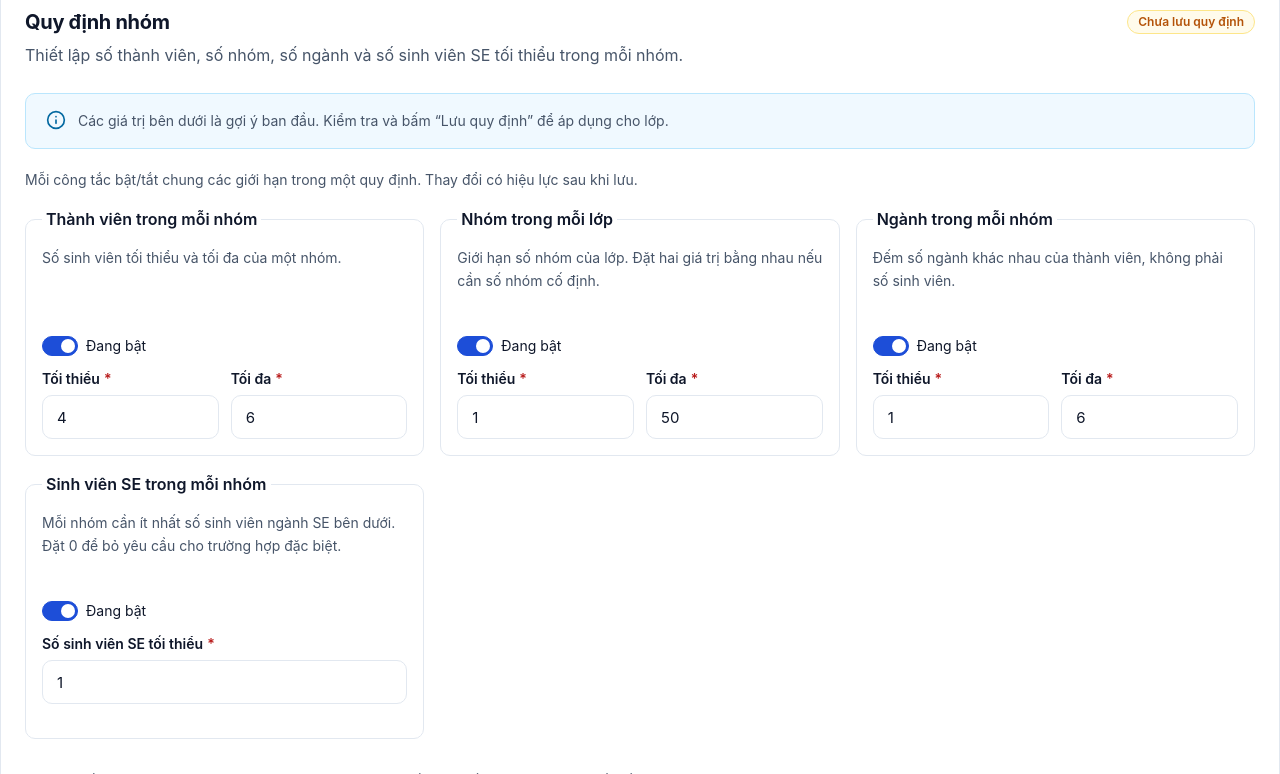
Test: Class grouping rules workflow › toggles all limits of groups together and revalidates when enabled
Replace the text in the number field labelled "Tối thiểu*" below "Nhóm trong mỗi lớp" with "60" at [546, 417], box [457,395,634,439]
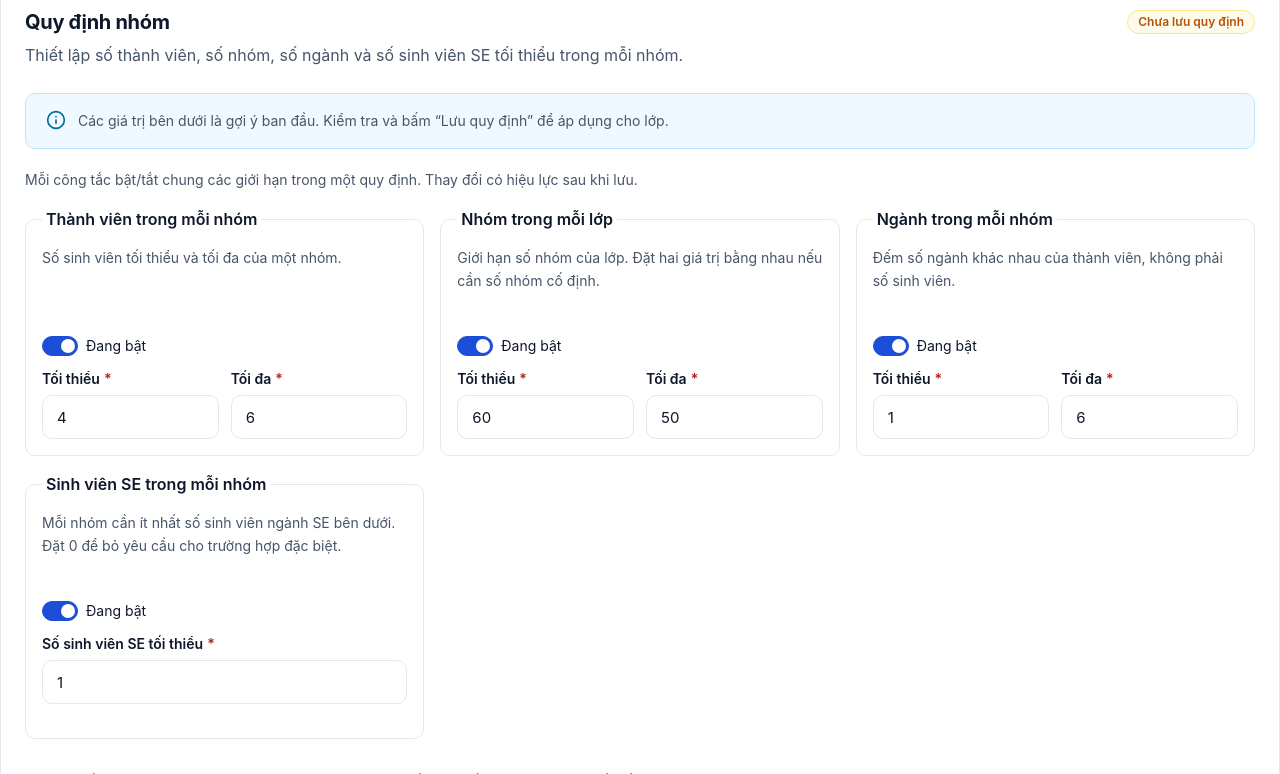
Click the switch labelled "Đang bật" below "Nhóm trong mỗi lớp" at [475, 346], box [457,336,493,356]
(page scrolled)
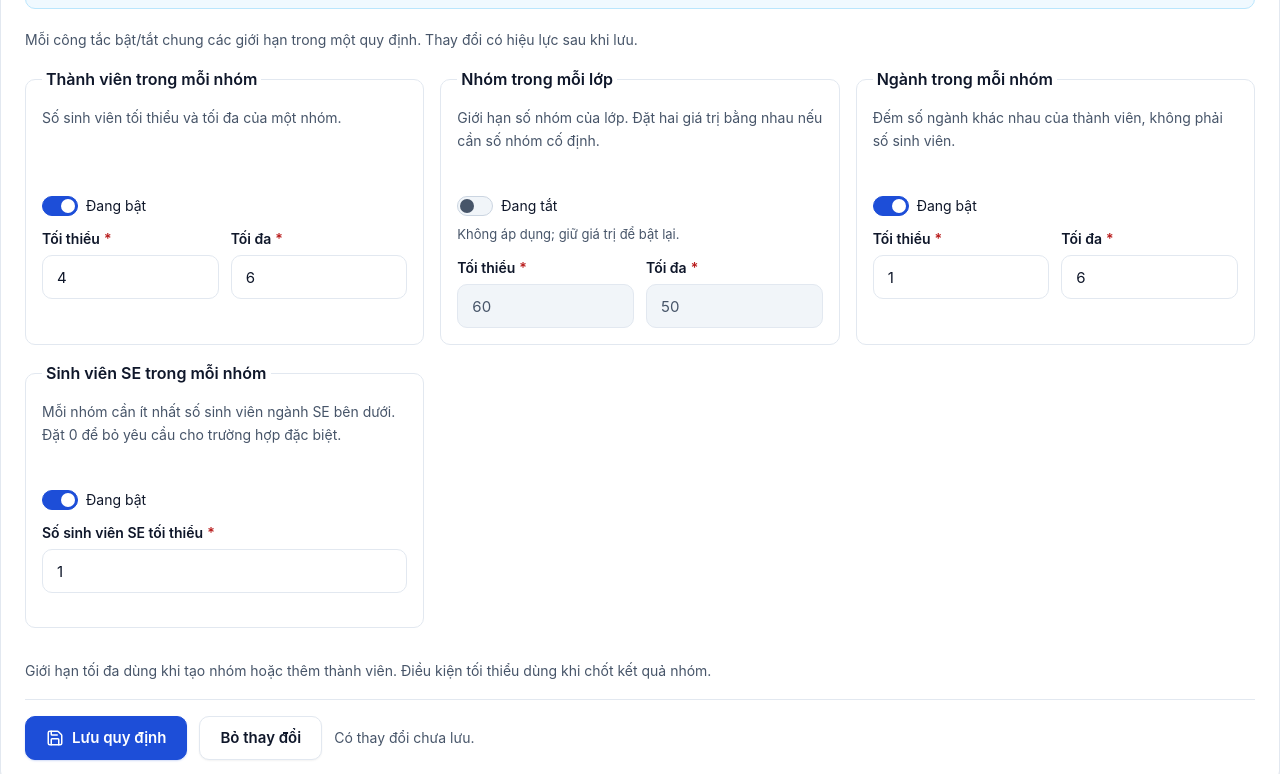
Click the button "Lưu quy định" at [106, 738], box [25,716,188,760]
(page scrolled)
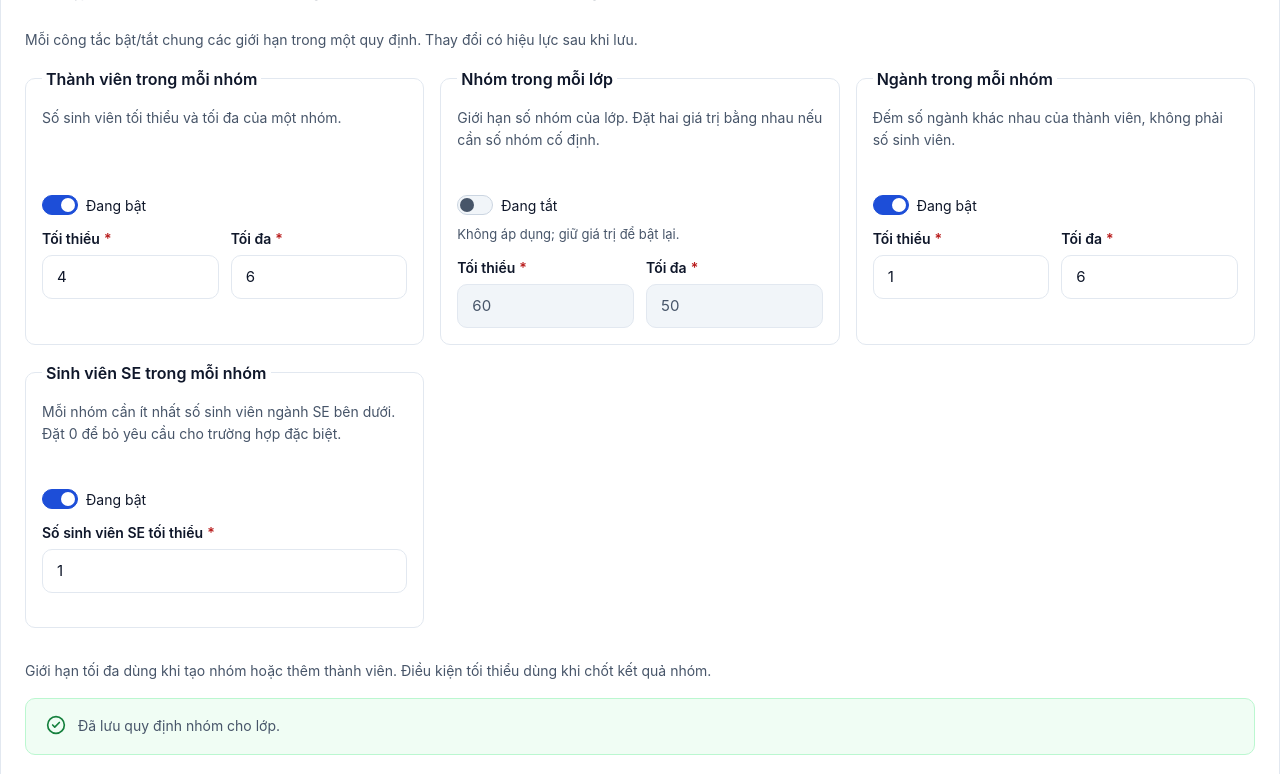
Expected: the text "Đã lưu quy định nhóm cho lớp." is shown, [78,715,280,738]
Click the switch labelled "Đang tắt" at [475, 206], box [457,196,493,216]
(page scrolled)
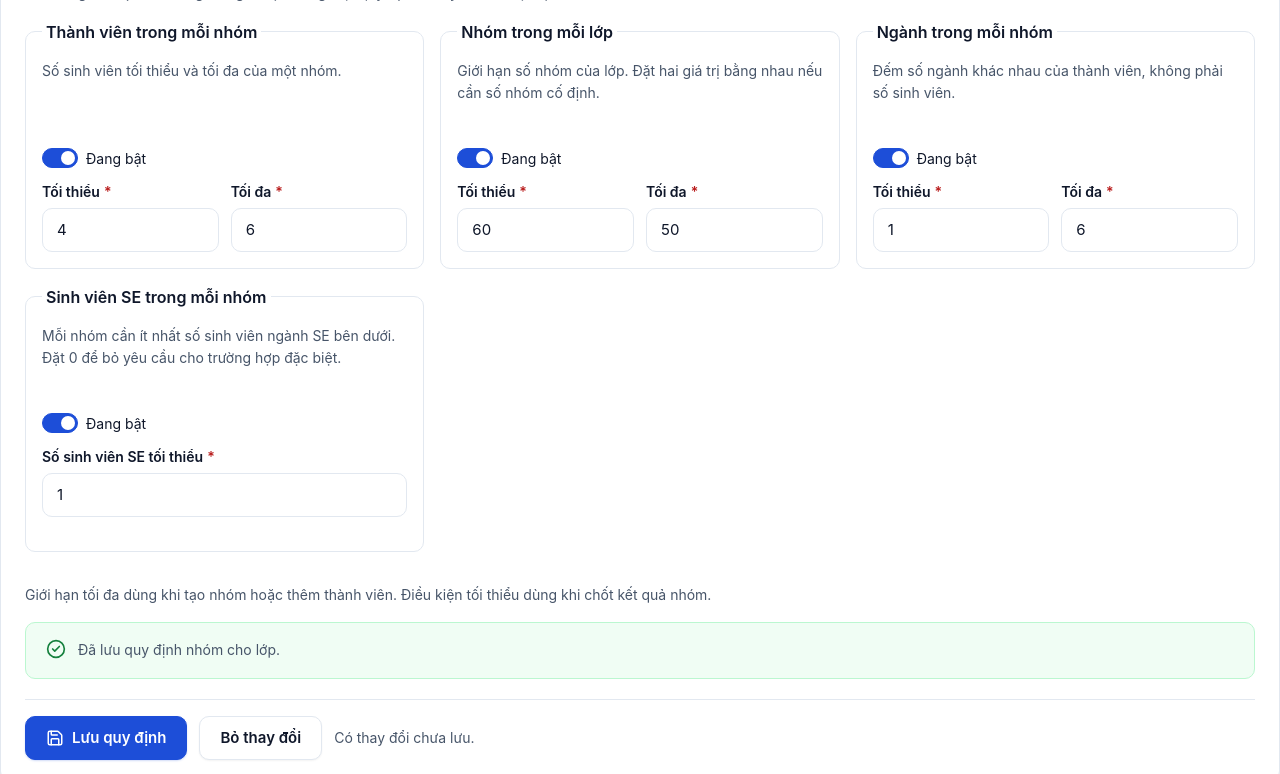
Click the button "Lưu quy định" at [106, 738], box [25,716,188,760]
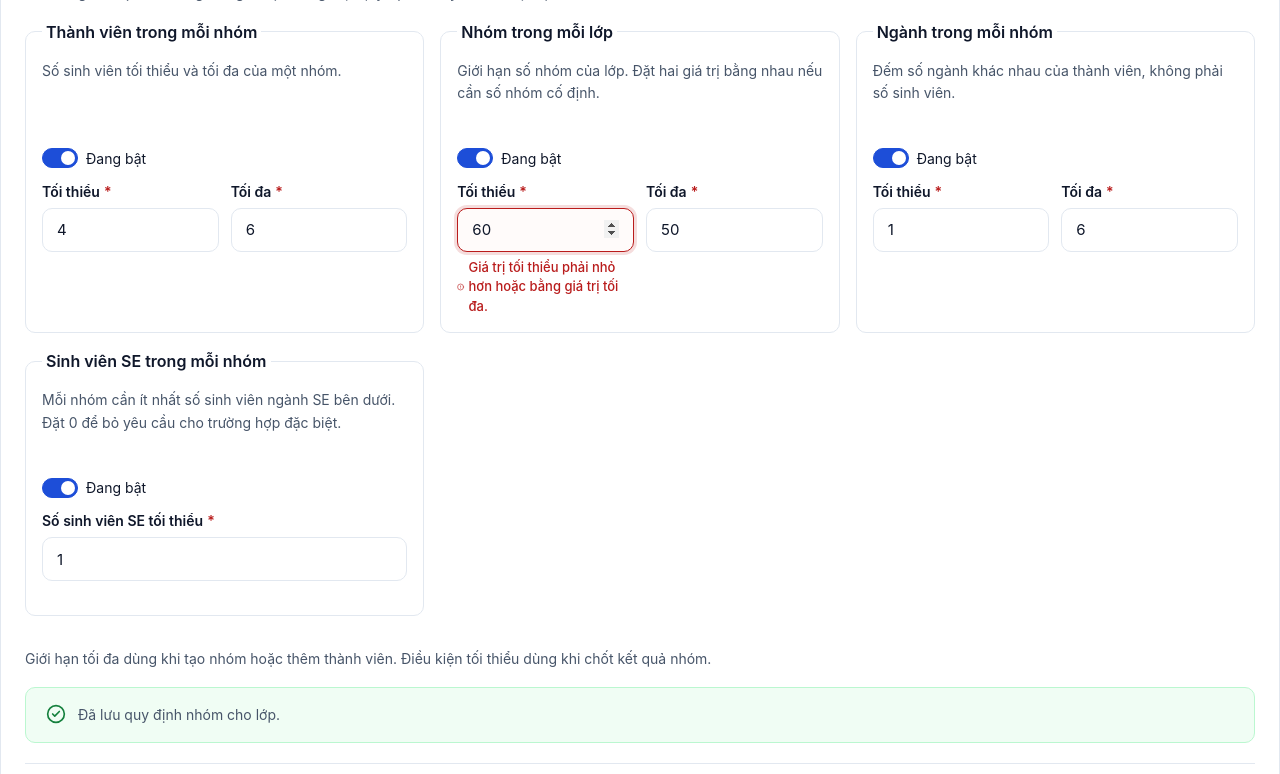
Expected: the text "Giá trị tối thiểu phải nhỏ hơn hoặc bằng giá trị tối đa." is shown, [468,258,634,316]
